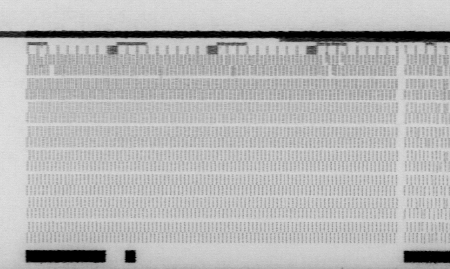Broken hole: (45, 65, 57, 77)
Oblique printing: (426, 51, 450, 242), (320, 51, 350, 78), (35, 52, 48, 69), (226, 65, 238, 78)
